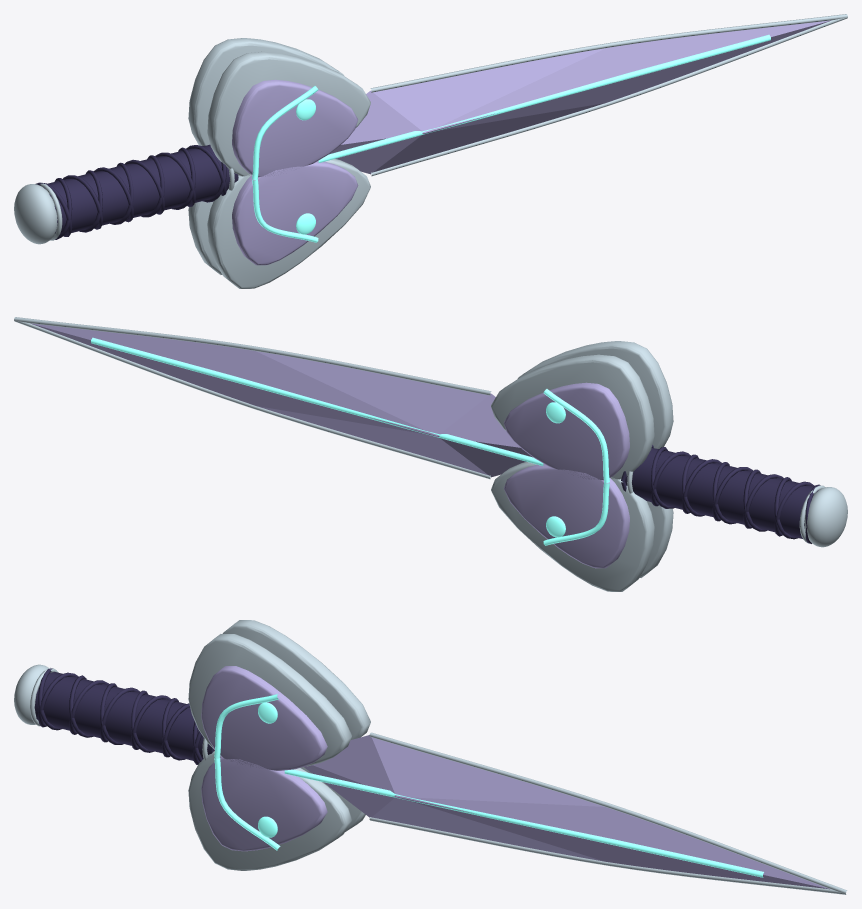
Rendered from prismwing.glb.
The picture shows the model from 3 angles, top to bottom: view 1: azimuth 30°, elevation 25°; view 2: azimuth 150°, elevation 25°; view 3: azimuth 330°, elevation 25°; orthographic projection.
Parts seen in each view (by area): view 1: 06_Refract_Blade__body_Sculpt_coat (×2), 06_Refract_Blade__body_Sculpt_metal, 06_Refract_Blade__body_Sculpt_grip, 06_Refract_Blade__body_Sculpt_glow; view 2: 06_Refract_Blade__body_Sculpt_coat (×2), 06_Refract_Blade__body_Sculpt_metal, 06_Refract_Blade__body_Sculpt_grip, 06_Refract_Blade__body_Sculpt_glow; view 3: 06_Refract_Blade__body_Sculpt_coat (×2), 06_Refract_Blade__body_Sculpt_metal, 06_Refract_Blade__body_Sculpt_grip, 06_Refract_Blade__body_Sculpt_glow.
Part boxes in pixels (<box>): 06_Refract_Blade__body_Sculpt_coat (×2): <box>232,20,831,265</box>; 06_Refract_Blade__body_Sculpt_metal: <box>14,14,847,288</box>; 06_Refract_Blade__body_Sculpt_grip: <box>35,144,238,239</box>; 06_Refract_Blade__body_Sculpt_glow: <box>252,34,770,242</box>; 06_Refract_Blade__body_Sculpt_coat (×2): <box>30,323,629,568</box>; 06_Refract_Blade__body_Sculpt_metal: <box>14,317,847,591</box>; 06_Refract_Blade__body_Sculpt_grip: <box>621,445,820,543</box>; 06_Refract_Blade__body_Sculpt_glow: <box>91,337,609,545</box>; 06_Refract_Blade__body_Sculpt_coat (×2): <box>201,666,830,889</box>; 06_Refract_Blade__body_Sculpt_metal: <box>14,620,847,894</box>; 06_Refract_Blade__body_Sculpt_grip: <box>34,668,214,764</box>; 06_Refract_Blade__body_Sculpt_glow: <box>214,694,763,877</box>.
Bounding box in the file's own units: 2.27 × 0.609 × 0.2009.
